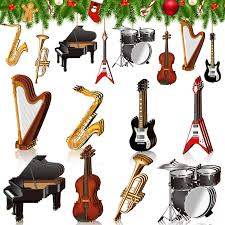Piano: (5, 151, 93, 225), (52, 14, 112, 76)
Saxophone: (60, 76, 123, 168), (1, 17, 34, 70)
Violin: (148, 25, 191, 101)
